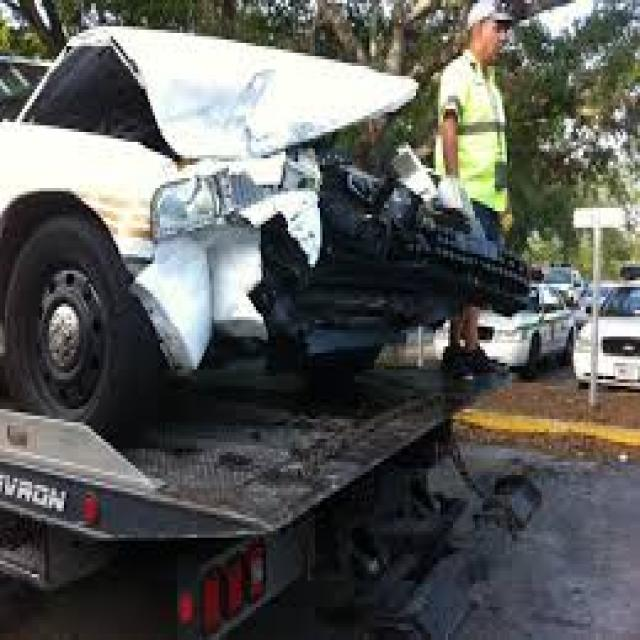severe: (66, 110, 548, 516)
